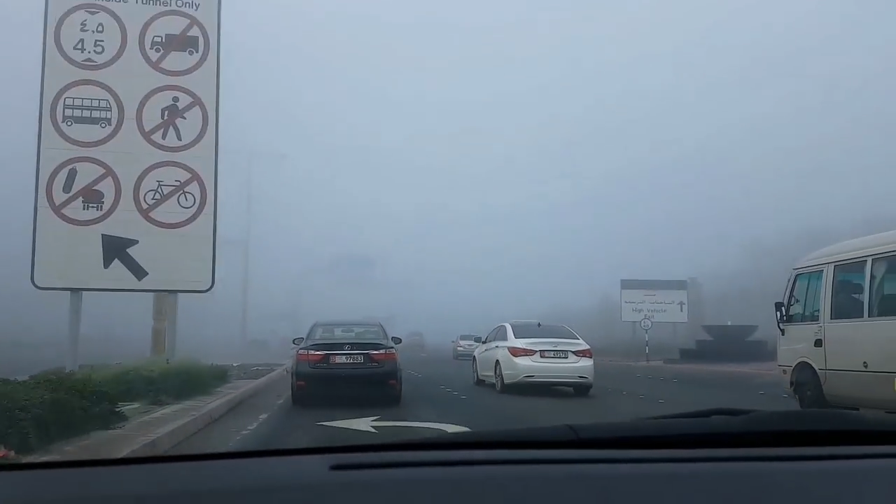bus: (774, 228, 896, 416)
car: (290, 317, 403, 405), (469, 319, 596, 397), (450, 332, 486, 362), (405, 331, 425, 348)
